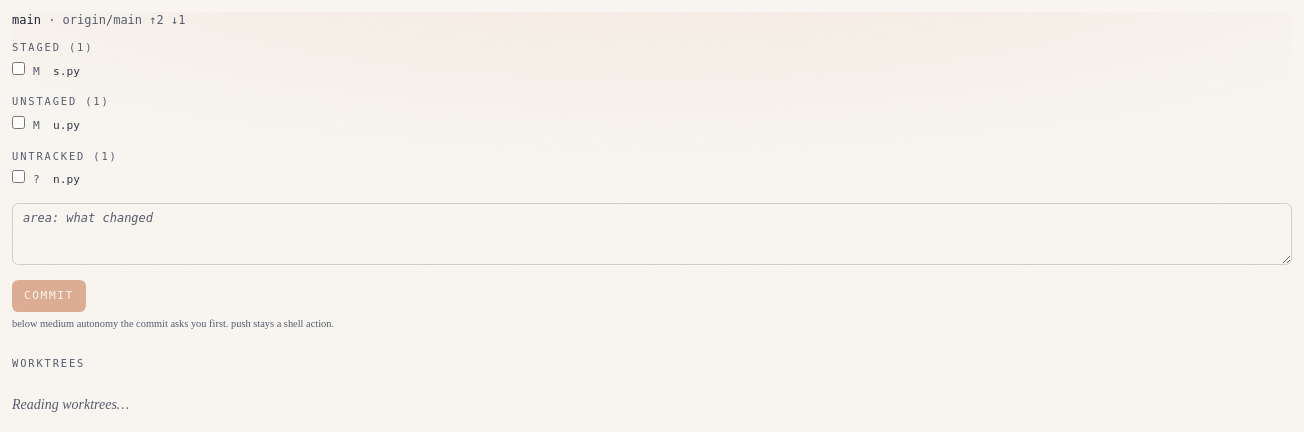
it: GitPanel › shows the server's reason when a commit is refused
This screenshot has width=1304, height=432.
Expected: the text "main" is shown, x1=12 y1=13 x2=41 y2=27
Click the checkbox named "staged s.py" at [18, 68], box x1=12 y1=62 x2=25 y2=75
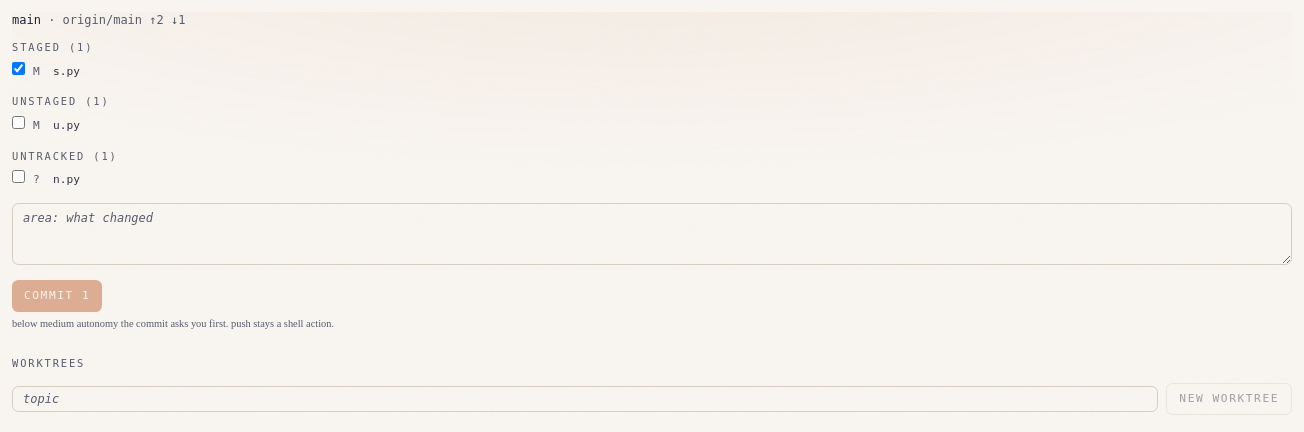
Type "x" into the text box named "commit message" at [652, 234], box x1=12 y1=203 x2=1292 y2=265
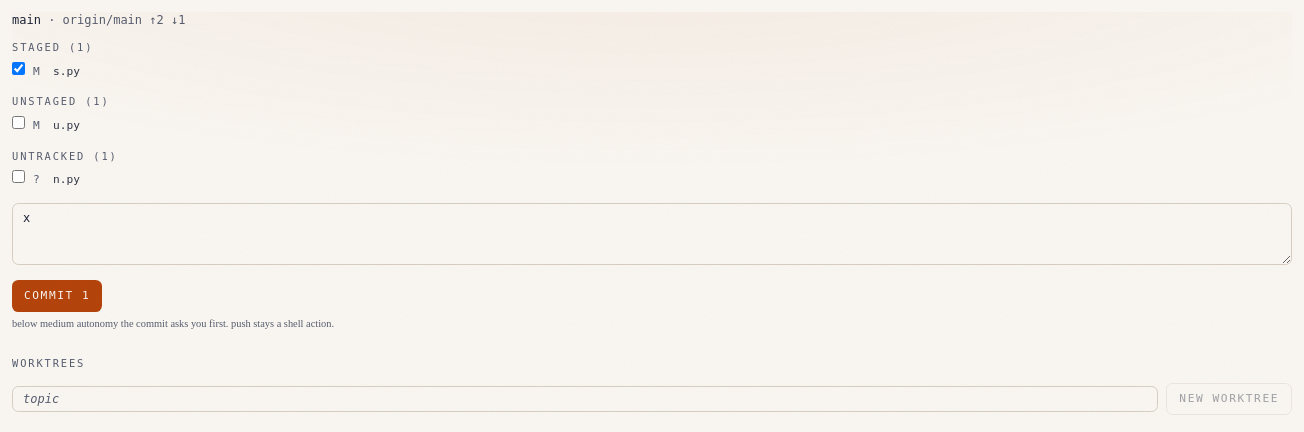
Click the button "commit 1" at [57, 296], box x1=12 y1=280 x2=102 y2=312
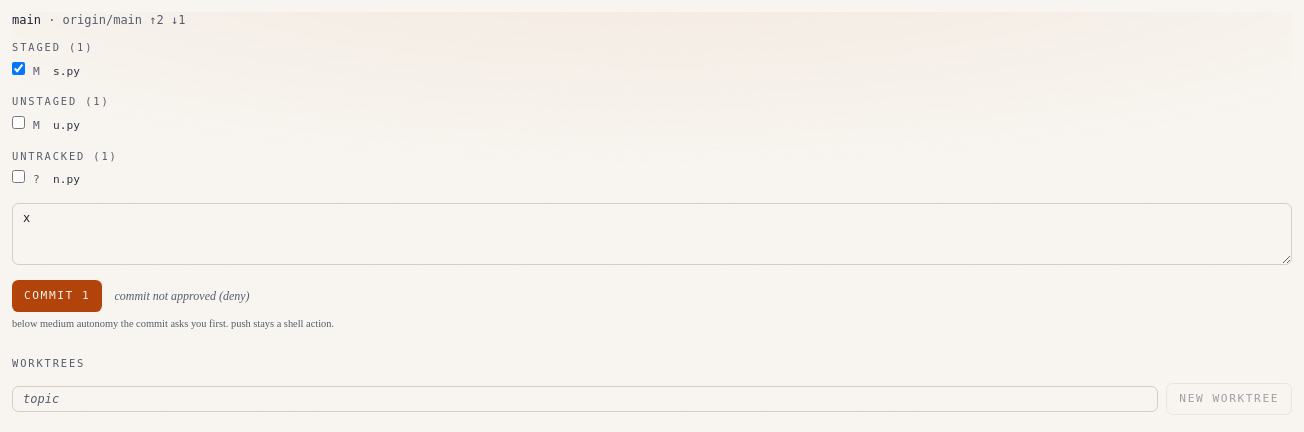
Result: the text "commit not approved (deny)" is shown at x1=114 y1=288 x2=250 y2=304
